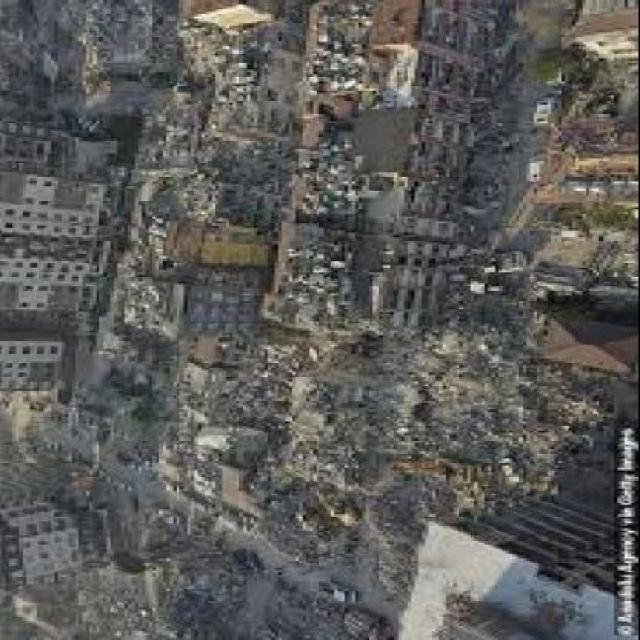Destroyed_building: (0, 0, 633, 638)
